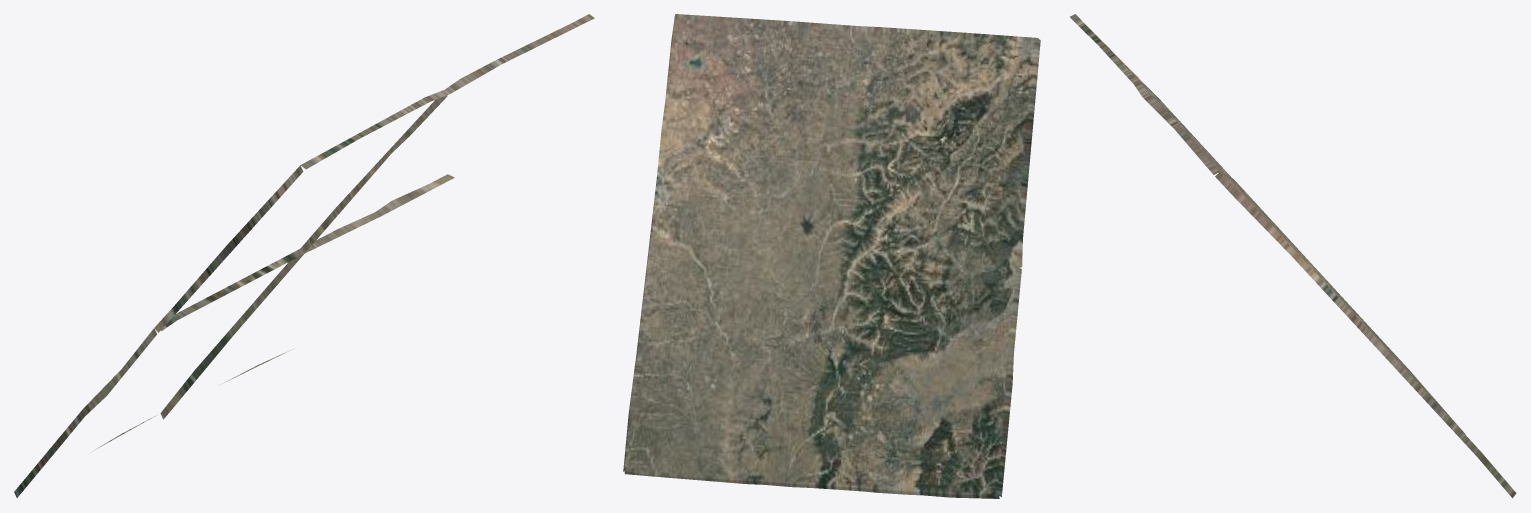
3 views of the same model, side by side, from view 1: azimuth 30°, elevation 25°; view 2: azimuth 150°, elevation 25°; view 3: azimuth 270°, elevation 25° (orthographic). The views are drawn at different scales.
Bounding box in the file's own units: 302122 × 251545 × 272213.
Materials: 1 (1 with a texture image).
